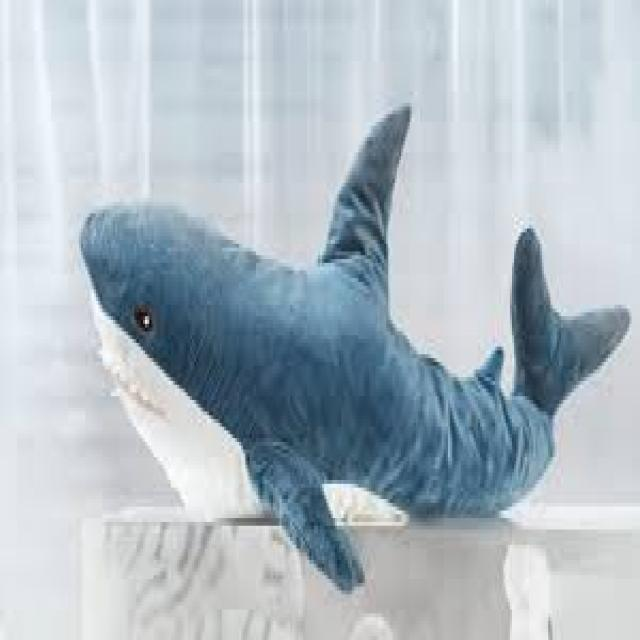soft-toy: (81, 112, 554, 588)
